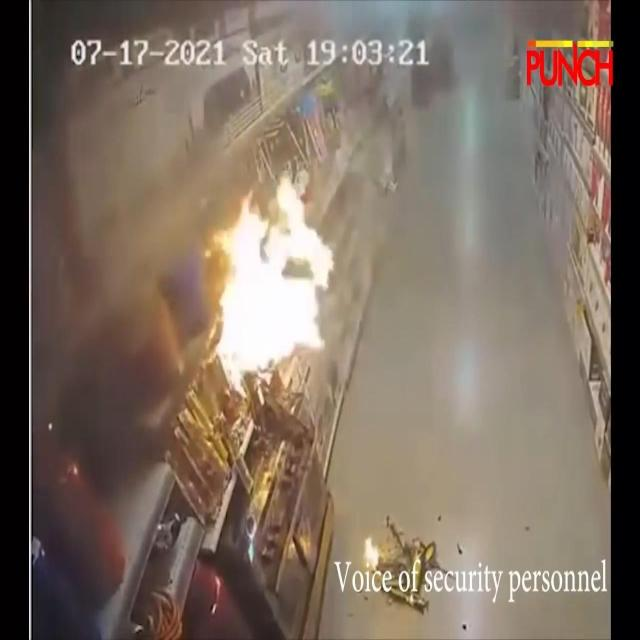fire: (214, 173, 333, 376), (365, 537, 378, 568)
